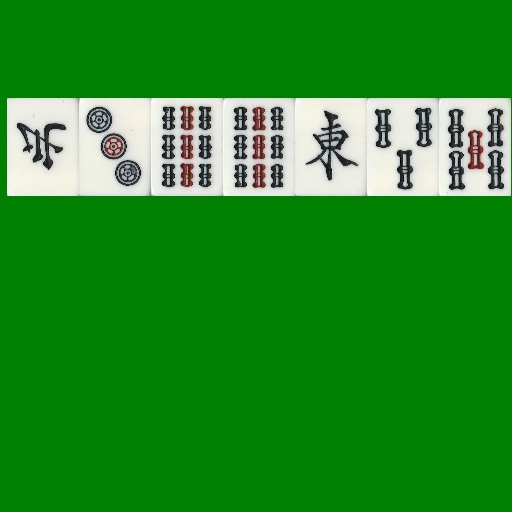3p: (79, 98, 151, 196)
3s: (367, 98, 439, 196)
5s: (439, 98, 511, 196)
9s: (151, 98, 223, 196), (223, 98, 295, 196)
east: (295, 98, 367, 196)
north: (7, 98, 79, 196)
